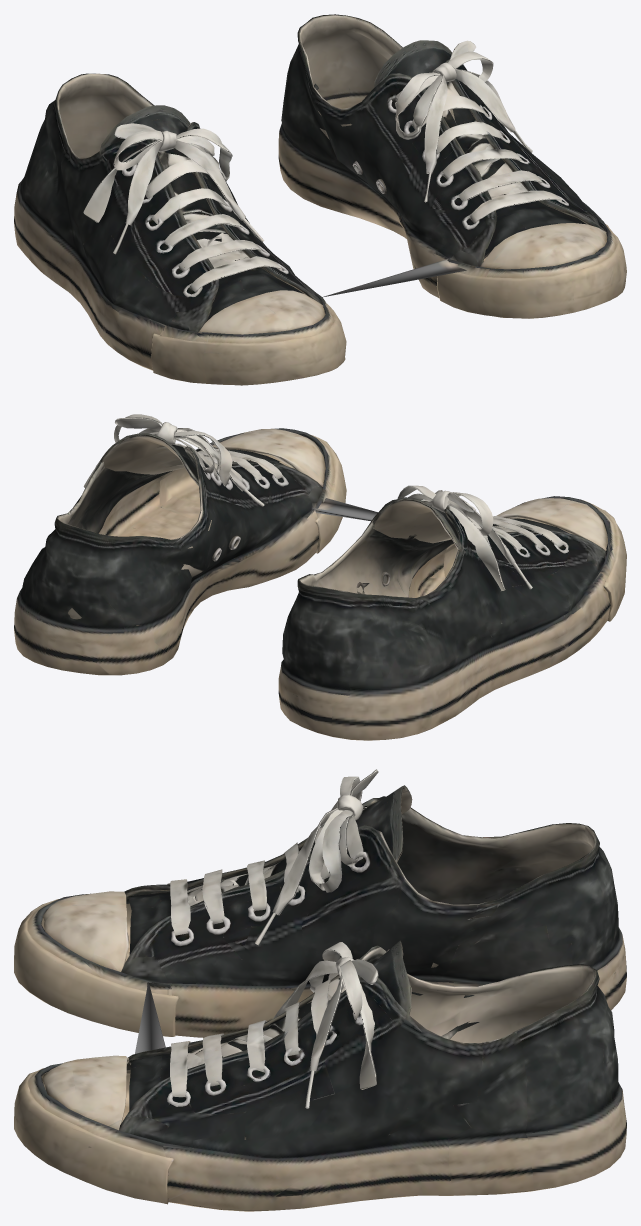
The model's file is desktop.glb.
3 renders of one model, top to bottom at view 1: azimuth 30°, elevation 25°; view 2: azimuth 150°, elevation 25°; view 3: azimuth 270°, elevation 25°, orthographic. The views are drawn at different scales.
Visible parts, largest first — view 1: shoes; view 2: shoes; view 3: shoes.
Boxes of the visible parts, x1=… form: shoes: x1=14, y1=14, x2=626, y2=385; shoes: x1=14, y1=414, x2=626, y2=740; shoes: x1=14, y1=769, x2=626, y2=1211.
Size of the model in its own units: 0.3501 by 0.1274 by 0.3353.
1 material, 1 textured.
